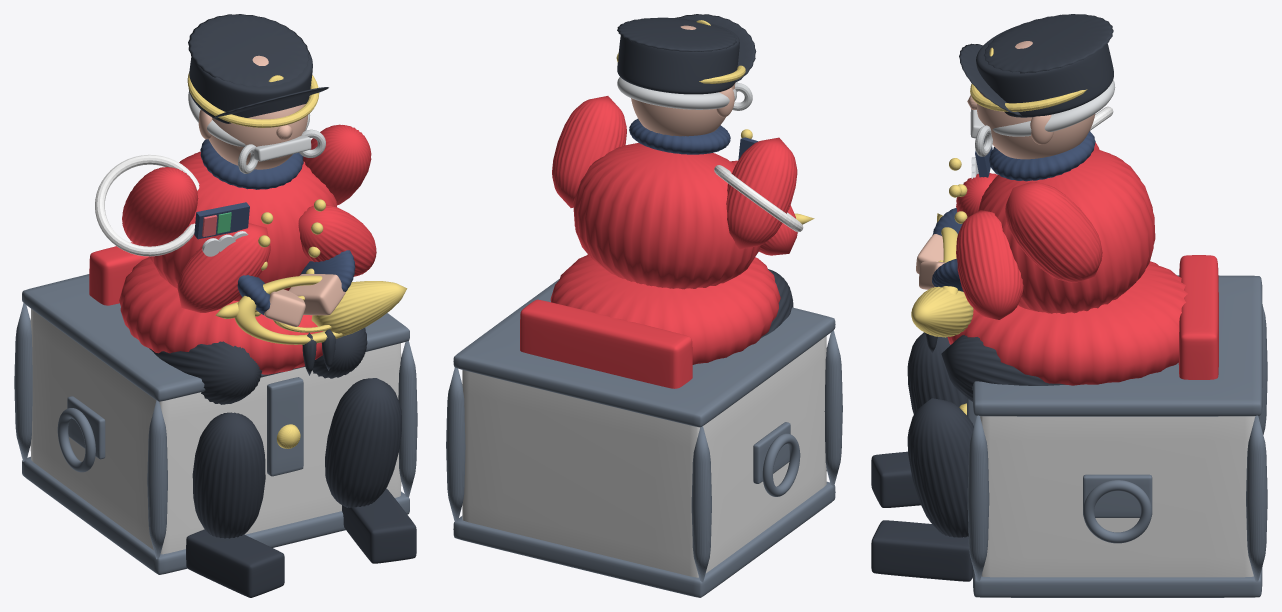
The model's file is antique_past_glory.fbx.
The picture shows the model from 3 angles, left to right: view 1: azimuth 30°, elevation 25°; view 2: azimuth 150°, elevation 25°; view 3: azimuth 270°, elevation 25°; orthographic projection. The views are drawn at different scales.
Visible parts, largest first — view 1: Chest_WoodBody, Chest_LidRim, Pensioner_CoatSkirt, Pensioner_Torso, Pensioner_R_Shin, Pensioner_L_Shin, Pensioner_CapTopPlate, Chest_BaseRim, Pensioner_Boot_L, Pensioner_L_ForeArm, Pensioner_L_UpperArm, Pensioner_L_Thigh (+26 smaller); view 2: Chest_WoodBody, Pensioner_Torso, Chest_LidRim, Pensioner_CoatSkirt, Pensioner_CoatTails, Chest_BaseRim, Pensioner_L_UpperArm, Pensioner_CapCrown, Pensioner_R_UpperArm, Pensioner_CapTopPlate, Chest_Corner_1, Chest_Corner_0 (+10 smaller); view 3: Chest_WoodBody, Pensioner_CoatSkirt, Chest_LidRim, Pensioner_Torso, Pensioner_R_Shin, Pensioner_R_UpperArm, Chest_BaseRim, Pensioner_R_ForeArm, Pensioner_CapTopPlate, Pensioner_CapCrown, Pensioner_Boot_R, Pensioner_CoatTails (+18 smaller).
Boxes of the visible parts, x1,y1,x2,y2 form: Chest_WoodBody: (30, 309, 401, 554); Chest_LidRim: (22, 274, 409, 401); Pensioner_CoatSkirt: (119, 257, 322, 374); Pensioner_Torso: (149, 151, 337, 301); Pensioner_R_Shin: (325, 378, 401, 507); Pensioner_L_Shin: (192, 412, 265, 538); Pensioner_CapTopPlate: (188, 14, 309, 86); Chest_BaseRim: (22, 456, 409, 574); Pensioner_Boot_L: (186, 529, 284, 597); Pensioner_L_ForeArm: (177, 223, 270, 312); Pensioner_L_UpperArm: (122, 167, 198, 246); Pensioner_L_Thigh: (149, 341, 261, 404); Chest_WoodBody: (462, 336, 826, 577); Pensioner_Torso: (573, 143, 760, 289); Chest_LidRim: (453, 279, 835, 427); Pensioner_CoatSkirt: (550, 254, 780, 364); Pensioner_CoatTails: (520, 299, 692, 388); Chest_BaseRim: (453, 481, 835, 597); Pensioner_L_UpperArm: (726, 137, 797, 249); Pensioner_CapCrown: (617, 17, 739, 94); Pensioner_R_UpperArm: (552, 96, 626, 207); Pensioner_CapTopPlate: (617, 18, 736, 51); Chest_Corner_1: (691, 426, 711, 582); Chest_Corner_0: (446, 367, 465, 521); Chest_WoodBody: (980, 416, 1255, 577); Pensioner_CoatSkirt: (947, 261, 1187, 385); Chest_LidRim: (972, 275, 1262, 416); Pensioner_Torso: (978, 148, 1155, 313); Pensioner_R_Shin: (907, 398, 973, 537); Pensioner_R_UpperArm: (1005, 182, 1102, 282); Chest_BaseRim: (973, 566, 1262, 597); Pensioner_R_ForeArm: (956, 210, 1023, 319); Pensioner_CapTopPlate: (984, 14, 1113, 73); Pensioner_CapCrown: (976, 25, 1113, 117); Pensioner_Boot_R: (871, 520, 972, 581); Pensioner_CoatTails: (1178, 255, 1218, 379).
Size of the model in its own units: 0.1198 by 0.1921 by 0.1367.
